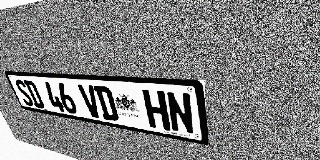4: (42, 82, 66, 112)
6: (54, 82, 79, 115)
D: (93, 85, 120, 122), (23, 80, 46, 109)
H: (142, 89, 171, 131)
N: (165, 91, 195, 135)
S: (13, 79, 35, 107)
V: (77, 84, 103, 119)
